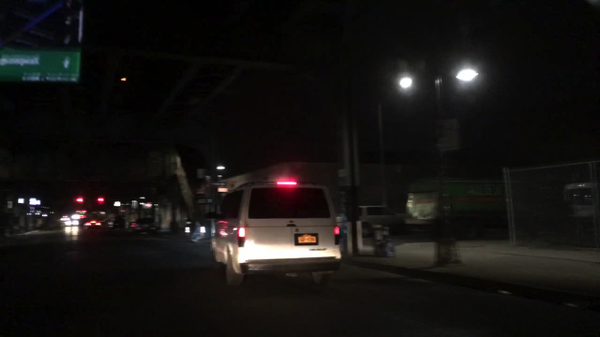bus: (406, 178, 546, 230), (561, 181, 598, 222)
car: (211, 179, 341, 285), (358, 205, 407, 235), (128, 215, 159, 233), (83, 217, 102, 229), (107, 218, 127, 228), (71, 214, 88, 220), (64, 220, 80, 226), (59, 215, 68, 222)
traffic light: (63, 8, 81, 46), (96, 195, 106, 203), (74, 196, 83, 203)
traffic sign: (1, 49, 80, 81), (434, 116, 460, 151), (205, 181, 226, 187)
